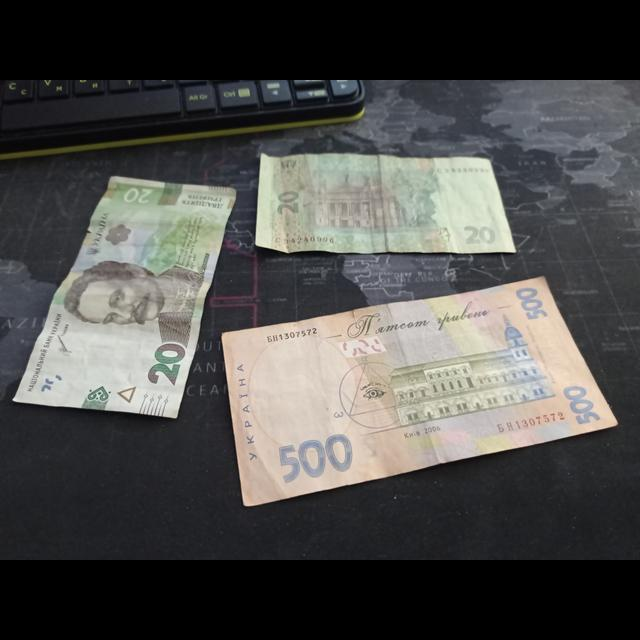20uah: (14, 176, 236, 419), (255, 154, 518, 257)
500uah: (223, 276, 619, 510)
